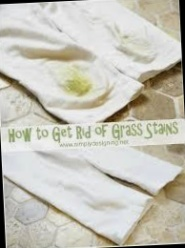earth: (61, 70, 89, 95)
